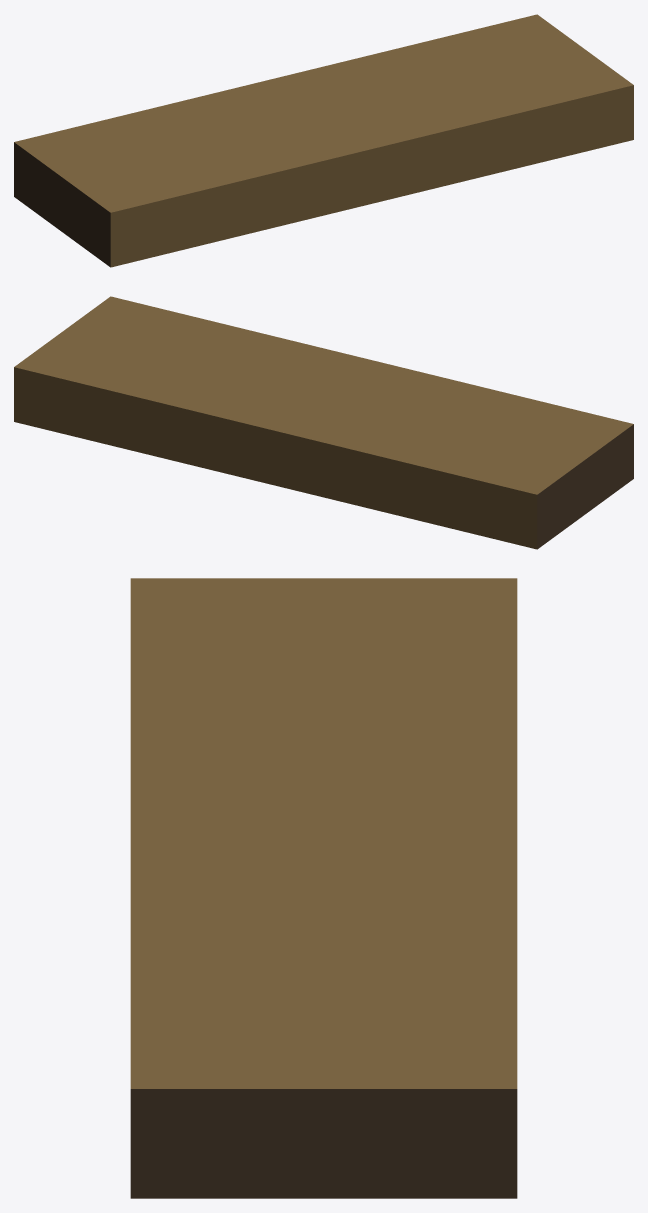
Rendered from TB_D_Bd_Wide_DoorStep_B.FBX.
3 renders of one model, top to bottom at view 1: azimuth 30°, elevation 25°; view 2: azimuth 150°, elevation 25°; view 3: azimuth 270°, elevation 25°, orthographic. The views are drawn at different scales.
Parts seen in each view (by area): view 1: TB_D_Bd_Wide_DoorStep_B; view 2: TB_D_Bd_Wide_DoorStep_B; view 3: TB_D_Bd_Wide_DoorStep_B.
Part boxes in pixels (box(x1,y1,x2,y2)): TB_D_Bd_Wide_DoorStep_B: box(14, 14, 633, 267); TB_D_Bd_Wide_DoorStep_B: box(14, 296, 633, 549); TB_D_Bd_Wide_DoorStep_B: box(130, 578, 517, 1198).
Bounding box in the file's own units: 2.5 × 0.25 × 0.8.
